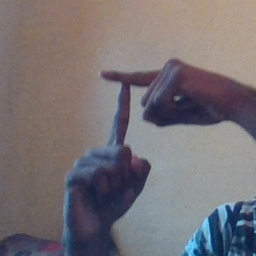T: (80, 48, 179, 169)
